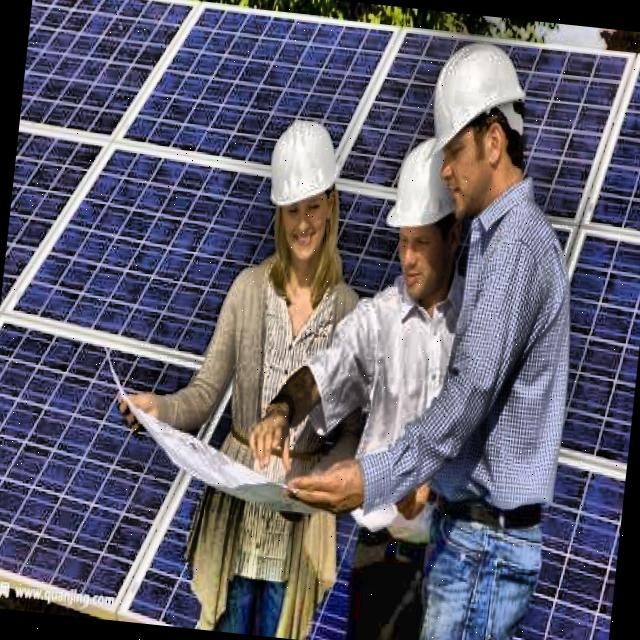helmet: (414, 22, 544, 228), (374, 128, 479, 328), (252, 98, 351, 284)
